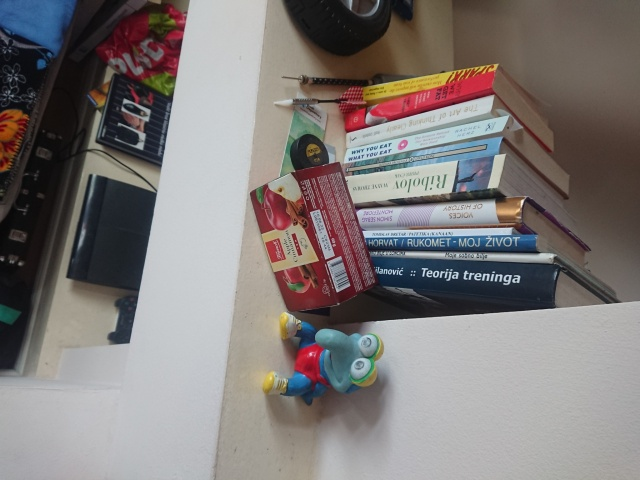Franck Apple Cinnamon Tea 60g: (247, 159, 380, 313)
